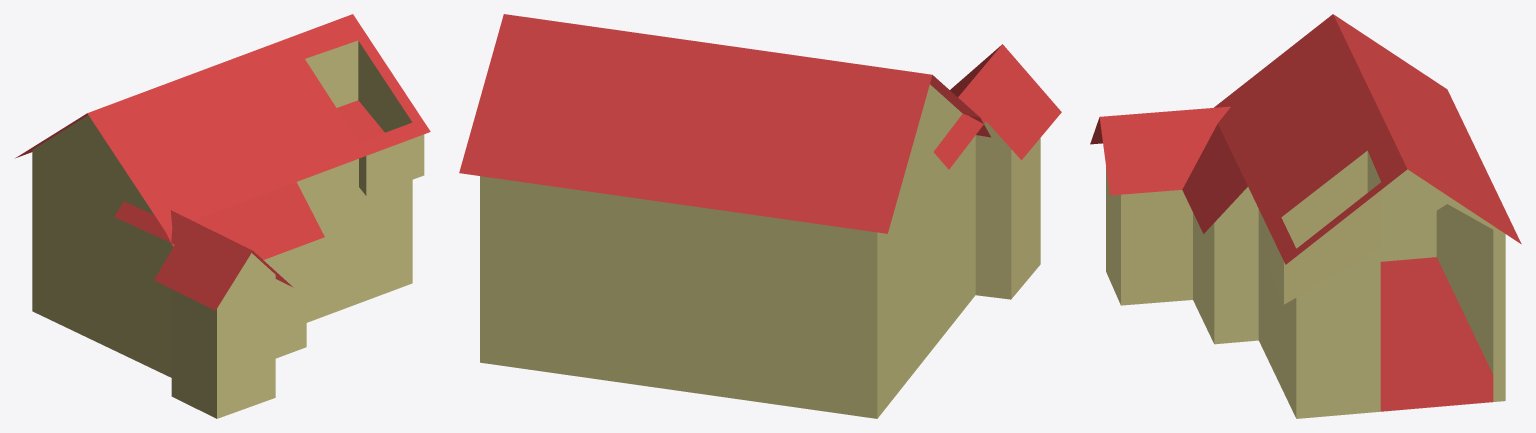
3 views of the same model, side by side, from view 1: azimuth 30°, elevation 25°; view 2: azimuth 150°, elevation 25°; view 3: azimuth 270°, elevation 25° (orthographic). The views are drawn at different scales.
Size of the model in its own units: 22.72 by 23.62 by 14.85.
